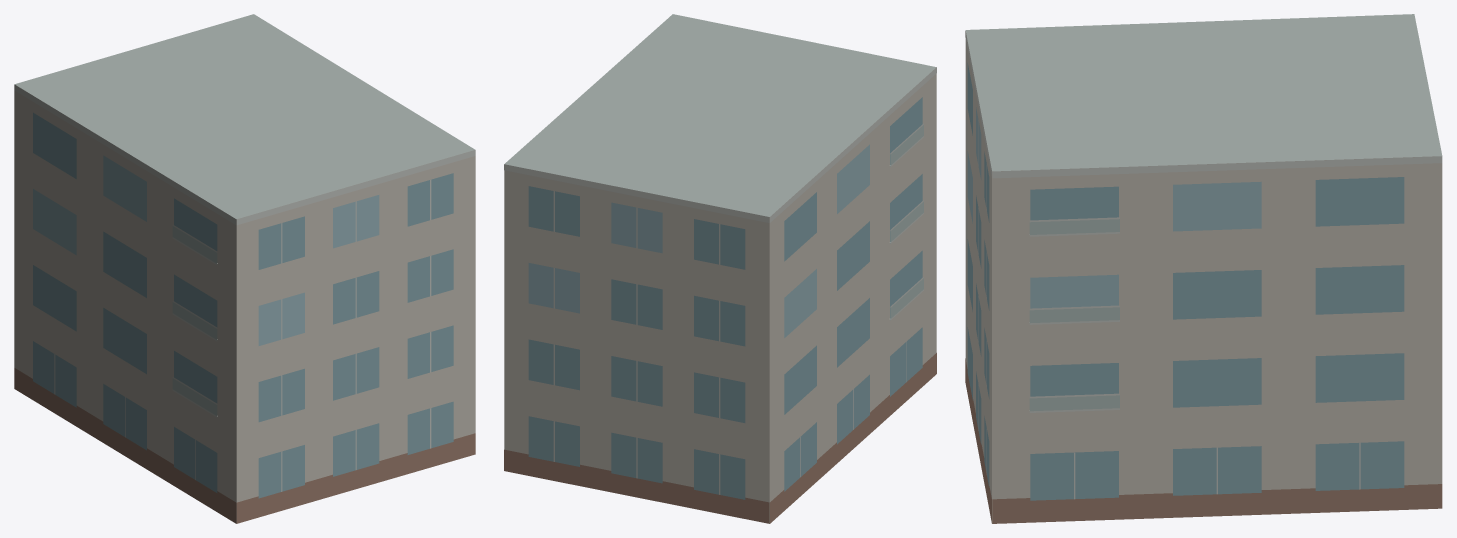
The model's file is survey-upis-32470258.glb.
3 views of the same model, side by side, from view 1: azimuth 30°, elevation 25°; view 2: azimuth 150°, elevation 25°; view 3: azimuth 270°, elevation 25° (orthographic). The views are drawn at different scales.
Parts seen in each view (by area): view 1: survey-upis-32470258.tmp; view 2: survey-upis-32470258.tmp; view 3: survey-upis-32470258.tmp.
Part boxes in pixels (<box>): survey-upis-32470258.tmp: <box>14,14,475,523</box>; survey-upis-32470258.tmp: <box>504,14,936,523</box>; survey-upis-32470258.tmp: <box>965,14,1442,523</box>.
Bounding box in the file's own units: 11.7 × 12.2 × 14.97.
